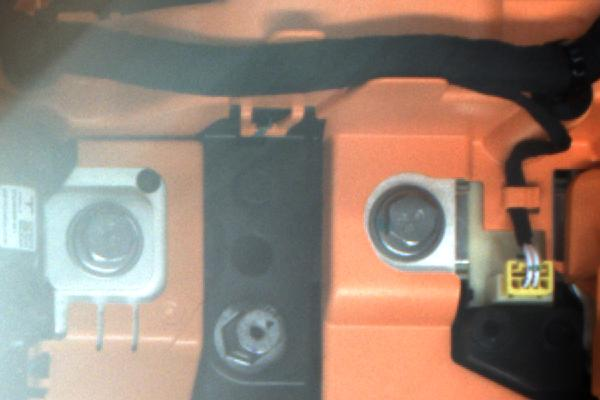nut_b: (367, 182, 448, 271)
